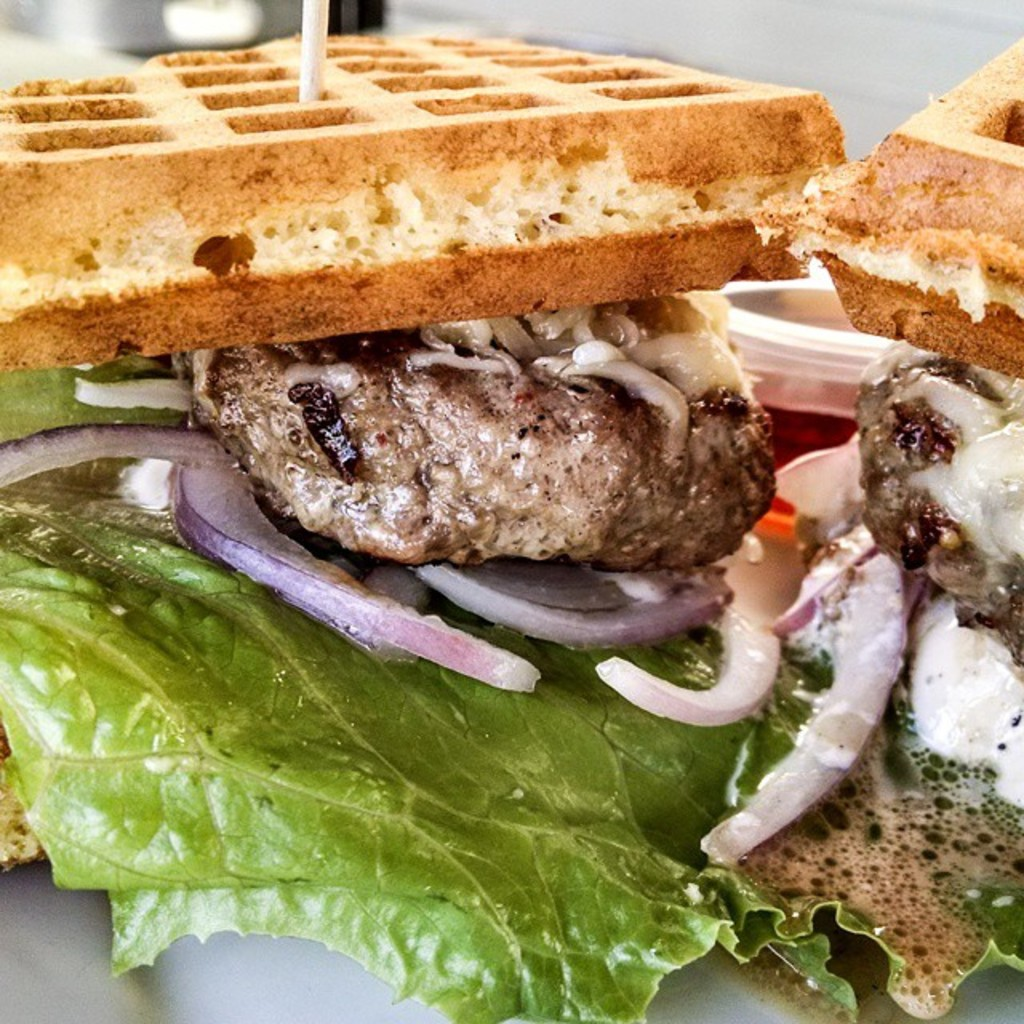sandwich: (0, 22, 861, 1014), (752, 40, 1022, 371)
